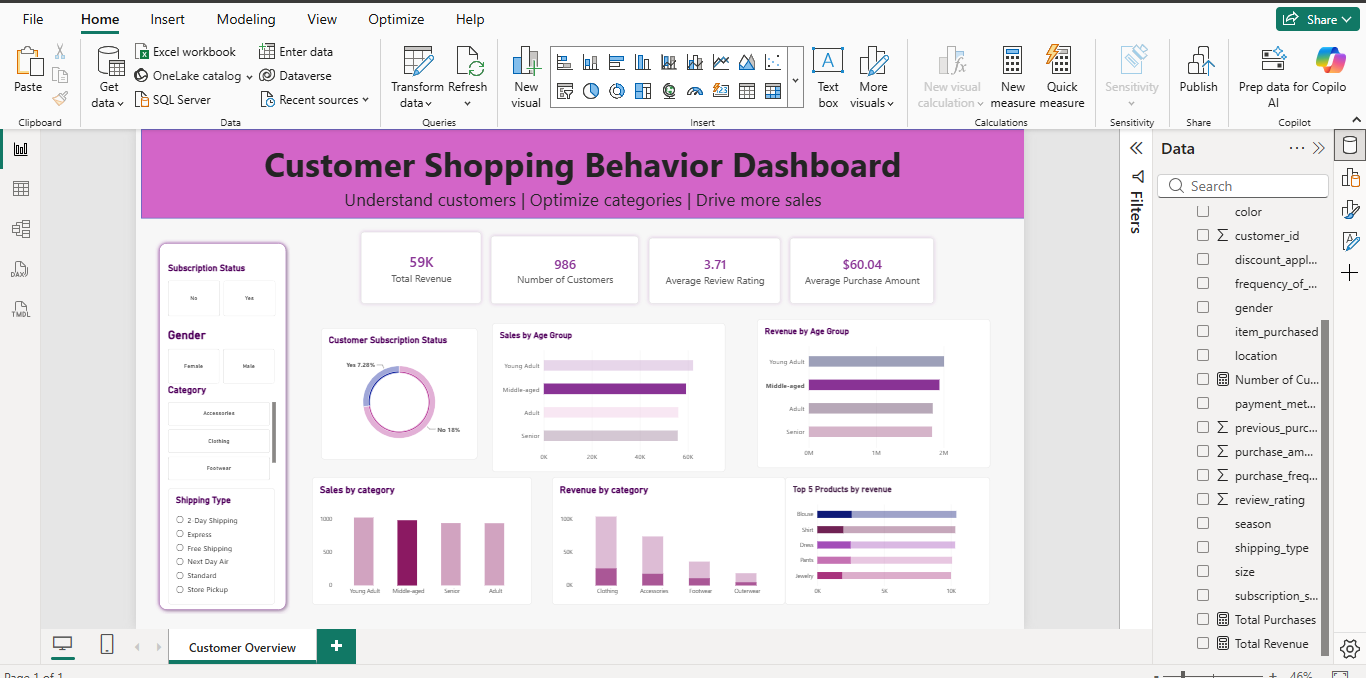

This screenshot's page, from the dashboard's own definition file:
{"tool":"powerbi","page":{"name":"Customer Overview","canvas":[1920,1080],"ordinal":0},"visuals":[{"type":"shape","box":[10.7,0,1909.3,193.1],"z":0},{"type":"textbox","box":[10.7,26.8,1909.3,134.1],"z":1000},{"type":"textbox","box":[10.7,126,1909.3,67],"z":2000},{"type":"cardVisual","fields":{"Data":["customer_shopping_behavior_cleaned.Total Revenue"]},"box":[474.6,211.8,281.6,177],"z":3000},{"type":"cardVisual","fields":{"Data":["customer_shopping_behavior_cleaned.Average Purchase Amount"]},"box":[1402.5,225.3,332.5,163.6],"z":4000},{"type":"cardVisual","fields":{"Data":["customer_shopping_behavior_cleaned.Average Review Rating"]},"box":[1096.8,225.3,305.7,163.6],"z":5000},{"type":"cardVisual","fields":{"Data":["customer_shopping_behavior_cleaned.Number of Customers"]},"box":[756.2,219.9,340.6,168.9],"z":6000},{"type":"donutChart","title":"Customer Subscription Status","fields":{"Y":["CountNonNull(customer_shopping_behavior_cleaned.customer_id)"],"Category":["customer_shopping_behavior_cleaned.subscription_status"]},"box":[399.6,429.1,337.9,284.2],"z":8000},{"type":"shape","box":[40.2,238.7,292.3,809.8],"z":10000},{"type":"clusteredColumnChart","title":"Revenue by category","fields":{"Category":["customer_shopping_behavior_cleaned.category"],"Y":["customer_shopping_behavior_cleaned.Total Revenue"]},"box":[879.7,758.5,504.1,276.2],"z":12000},{"type":"clusteredColumnChart","title":"Sales by category","fields":{"Category":["customer_shopping_behavior_cleaned.age_group"],"Y":["customer_shopping_behavior_cleaned.Total Purchases"]},"box":[380.8,750.8,474.6,276.2],"z":13000},{"type":"advancedSlicerVisual","title":"Subscription Status","fields":{"Values":["customer_shopping_behavior_cleaned.subscription_status"]},"box":[69.7,289.6,233.3,115.3],"z":14000},{"type":"advancedSlicerVisual","title":"Gender","fields":{"Values":["customer_shopping_behavior_cleaned.gender"]},"box":[69.7,429.1,230.6,120.7],"z":15000},{"type":"advancedSlicerVisual","title":"Category","fields":{"Values":["customer_shopping_behavior_cleaned.category"]},"box":[69.7,549.7,233.3,209.2],"z":16000},{"type":"listSlicer","title":"Shipping Type","fields":{"Values":["customer_shopping_behavior_cleaned.shipping_type"]},"box":[69.7,775,230.6,252.1],"z":17000},{"type":"clusteredBarChart","title":"Revenue by Age Group","fields":{"Category":["customer_shopping_behavior_cleaned.age_group"],"Y":["Sum(customer_shopping_behavior_cleaned.customer_id)"]},"box":[1340.8,410.3,504.1,321.8],"z":18001},{"type":"clusteredBarChart","title":"Sales by Age Group","fields":{"Category":["customer_shopping_behavior_cleaned.age_group"],"Y":["customer_shopping_behavior_cleaned.Total Revenue"]},"box":[769.6,418.3,504.1,321.8],"z":18002},{"type":"clusteredBarChart","title":"Top 5 Products by revenue","fields":{"Category":["customer_shopping_behavior_cleaned.item_purchased"],"Y":["customer_shopping_behavior_cleaned.Total Revenue"]},"box":[1402,751,443,276],"z":18003}]}

Visuals, with their boxes on the page's 1920x1080 design canvas (x1, y1, x2, y2). These are canvas units, not pixel positions in the 1366x678 screenshot, which may show the page scaled, cropped or inside an application window:
shape: 11/0/1920/193
textbox: 11/27/1920/161
textbox: 11/126/1920/193
cardVisual - customer_shopping_behavior_cleaned.Total Revenue: 475/212/756/389
cardVisual - customer_shopping_behavior_cleaned.Average Purchase Amount: 1402/225/1735/389
cardVisual - customer_shopping_behavior_cleaned.Average Review Rating: 1097/225/1402/389
cardVisual - customer_shopping_behavior_cleaned.Number of Customers: 756/220/1097/389
"Customer Subscription Status" donutChart: 400/429/738/713
shape: 40/239/332/1048
"Revenue by category" clusteredColumnChart: 880/758/1384/1035
"Sales by category" clusteredColumnChart: 381/751/855/1027
"Subscription Status" advancedSlicerVisual: 70/290/303/405
"Gender" advancedSlicerVisual: 70/429/300/550
"Category" advancedSlicerVisual: 70/550/303/759
"Shipping Type" listSlicer: 70/775/300/1027
"Revenue by Age Group" clusteredBarChart: 1341/410/1845/732
"Sales by Age Group" clusteredBarChart: 770/418/1274/740
"Top 5 Products by revenue" clusteredBarChart: 1402/751/1845/1027
